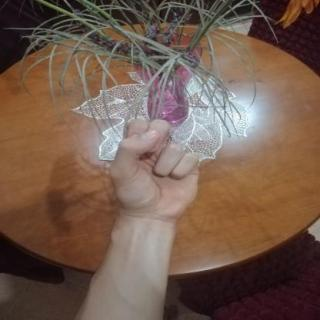QAAF: (97, 110, 221, 230)
